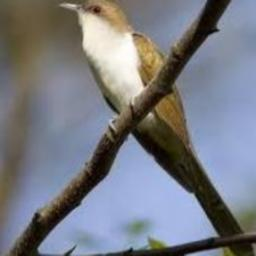Cuckoo: (57, 0, 256, 256)
